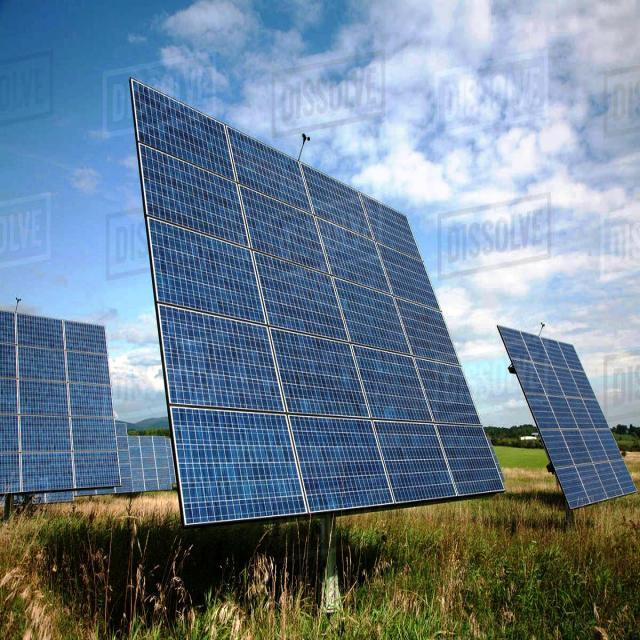no faulty: (164, 411, 299, 528), (162, 320, 288, 417), (290, 422, 397, 528), (131, 79, 241, 177), (150, 246, 262, 329), (144, 167, 254, 250), (275, 338, 372, 424), (376, 418, 458, 515), (248, 193, 334, 281), (263, 268, 352, 346), (234, 123, 310, 204), (365, 356, 435, 434), (343, 288, 413, 362), (328, 232, 394, 300), (382, 243, 446, 313), (444, 434, 506, 504), (401, 300, 462, 370), (428, 361, 481, 429), (309, 183, 375, 235), (365, 200, 424, 251), (508, 364, 545, 410), (544, 434, 576, 474), (551, 475, 585, 511), (563, 430, 595, 468), (607, 452, 637, 491), (498, 328, 532, 362), (582, 468, 609, 510), (568, 366, 600, 401), (583, 396, 613, 433), (528, 401, 559, 434), (539, 369, 569, 402), (552, 398, 581, 432), (524, 332, 551, 366), (558, 342, 588, 372), (600, 432, 628, 463)
